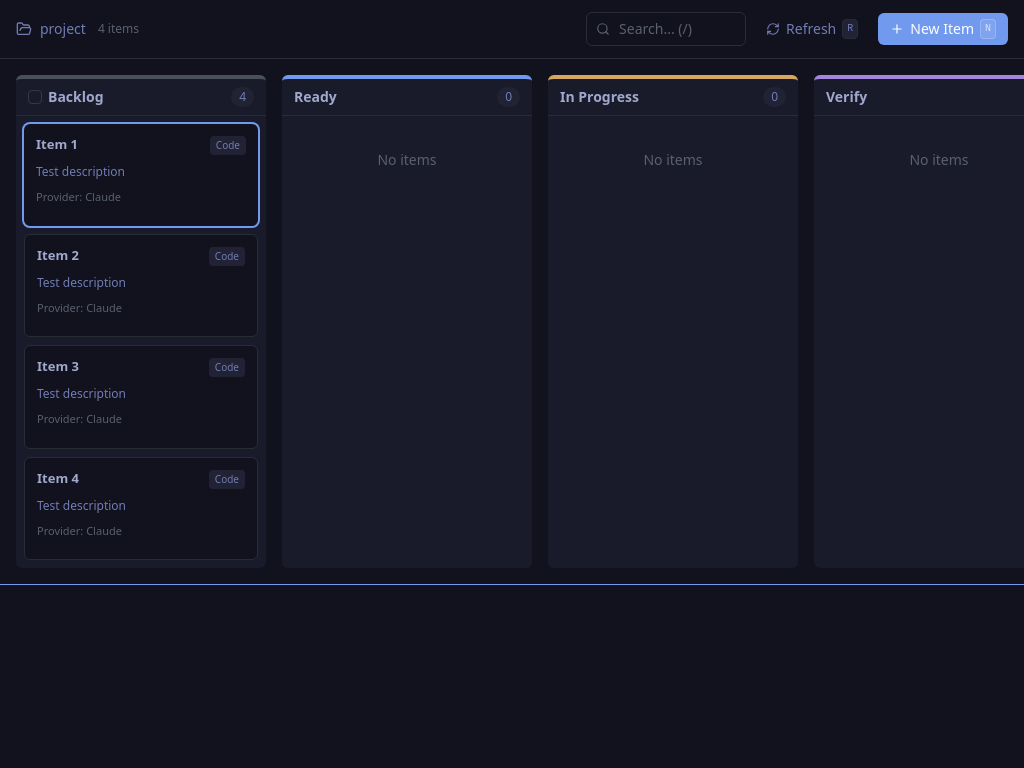
Test: Kanban visual selection › should not interfere with Shift+Click range select
The image size is (1024, 768).
# Click first card to establish anchor
Click the button with test id "kanban-card": (141,175) [24, 124, 258, 226]
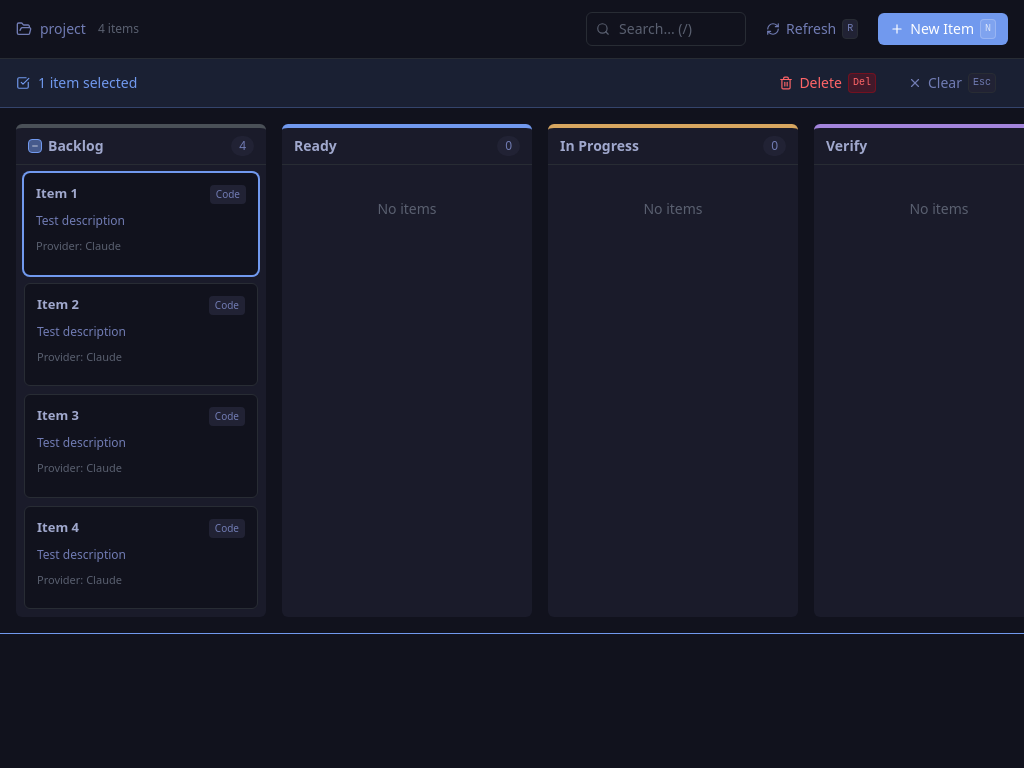
# Shift+Click third card for range
Click the button with test id "kanban-card": (141,446) [24, 394, 258, 498]
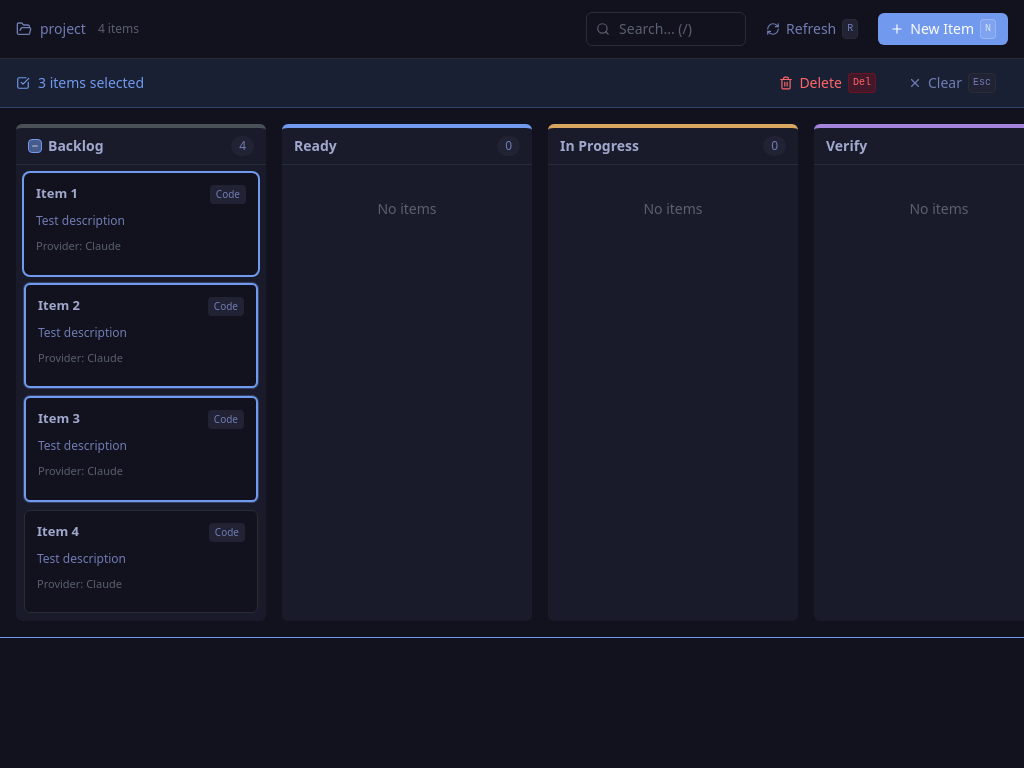
Check: the text with test id "selection-count" reads "3 items selected", box [38, 73, 144, 93]
